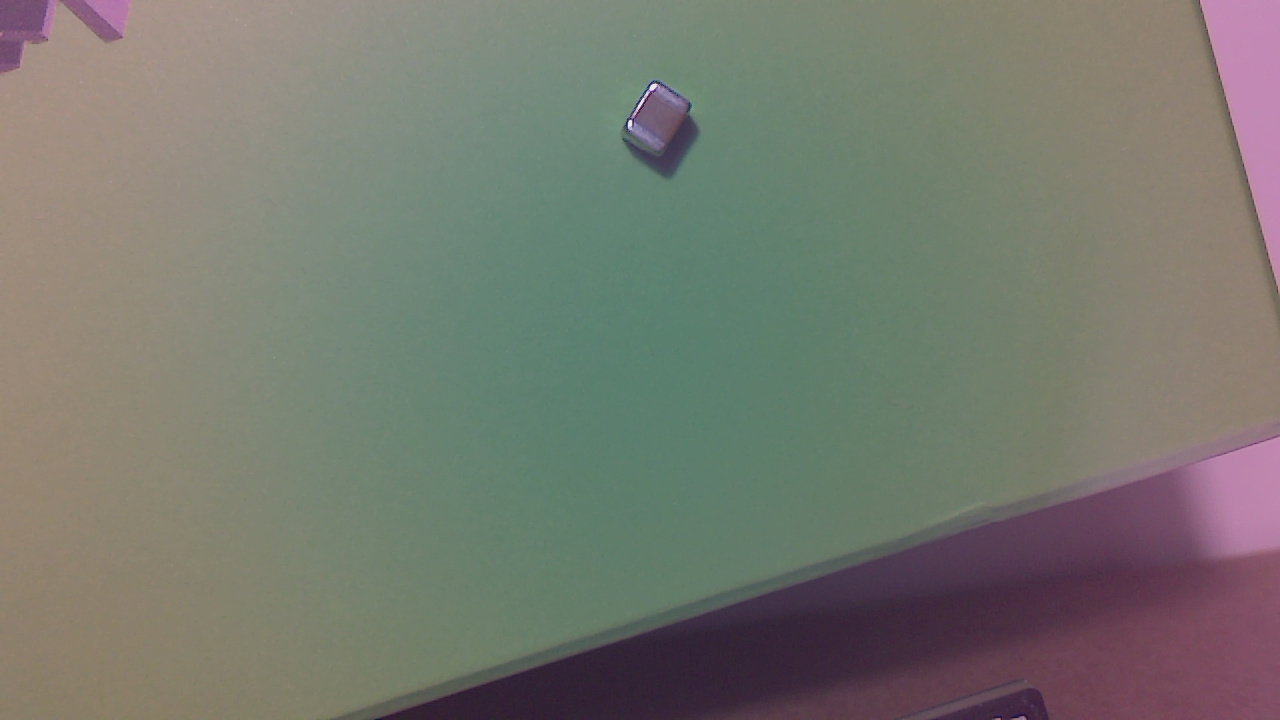Condensator: (623, 82, 697, 165)
